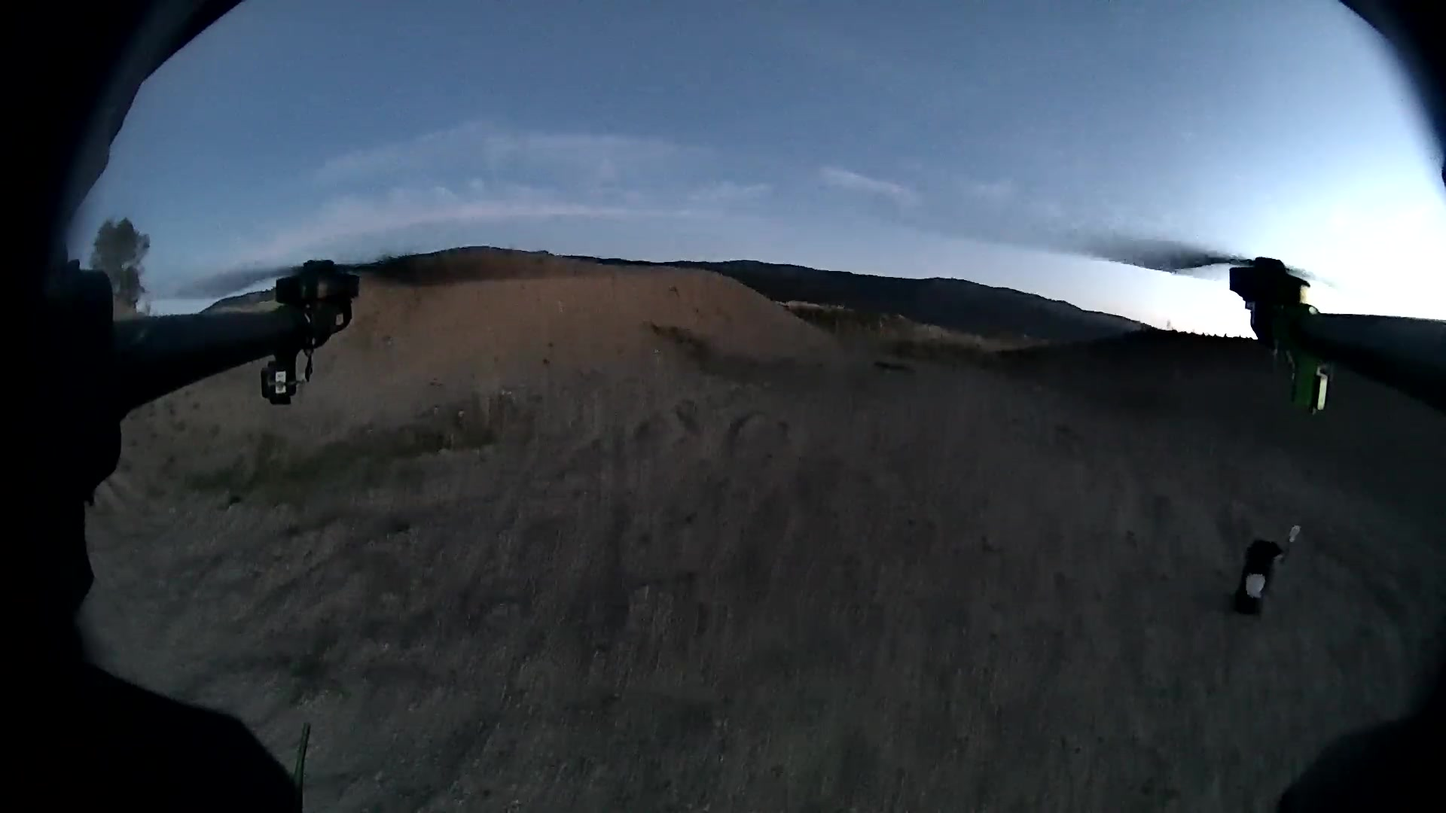Target: (1246, 574, 1265, 598)
